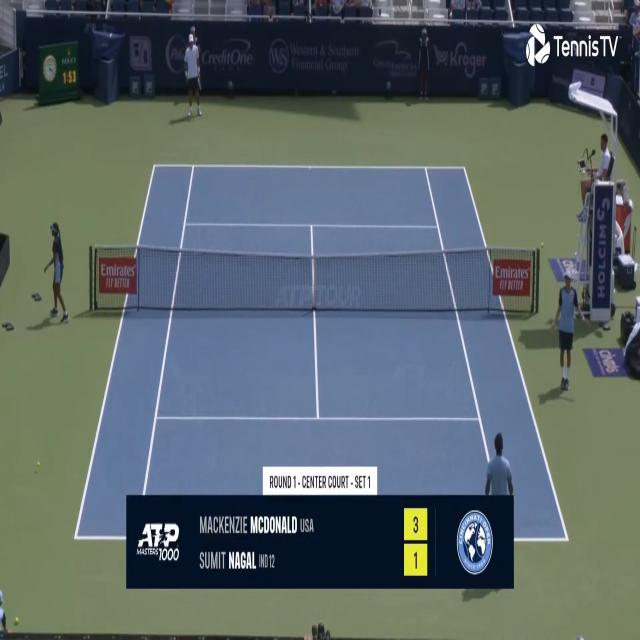tennis-player: (182, 30, 204, 118)
